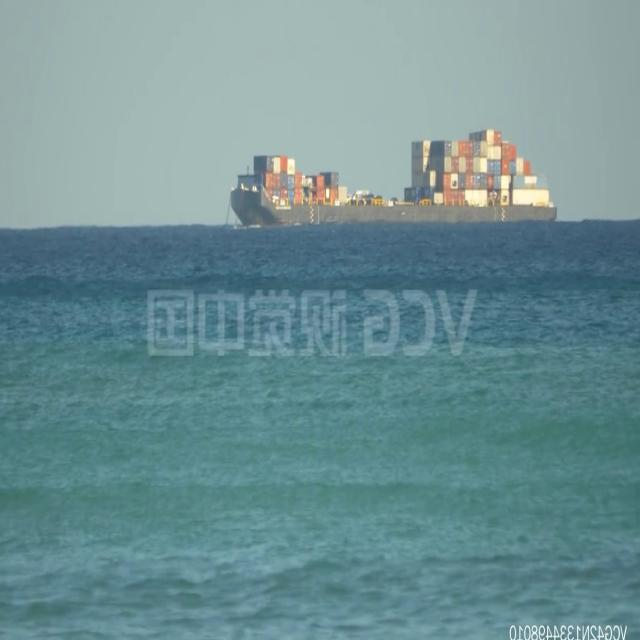cargoship: (227, 108, 562, 240)
